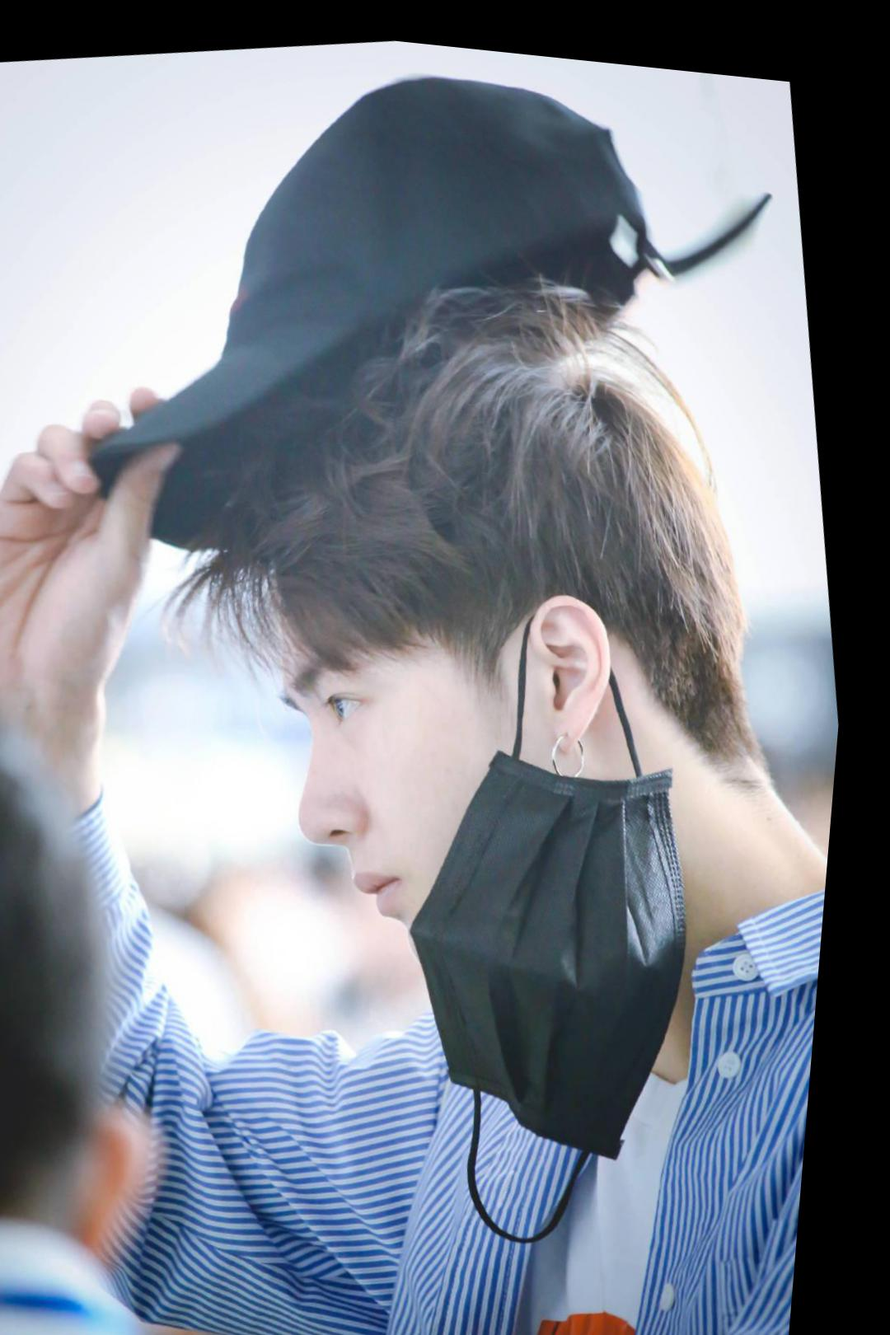WRONG: (265, 588, 579, 983)
